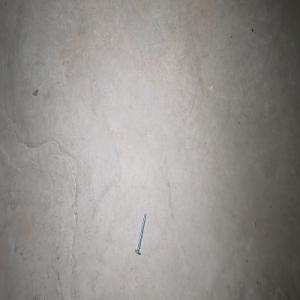Bolt: (134, 211, 146, 255)
